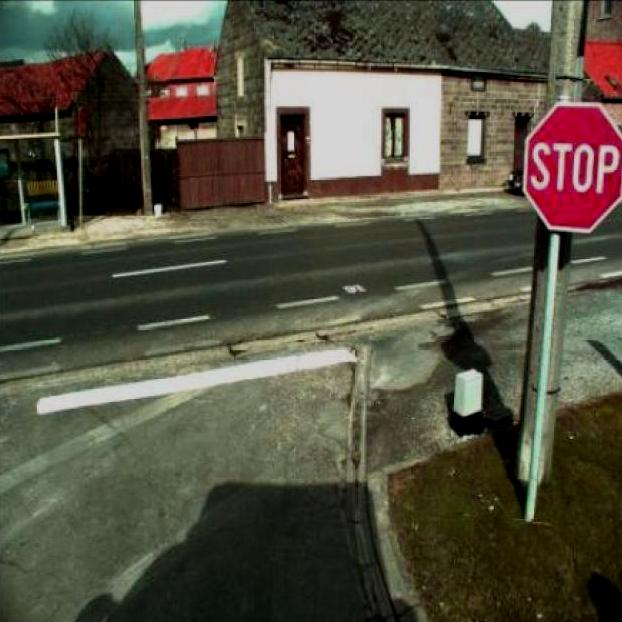stop_sign: (523, 102, 622, 232)
